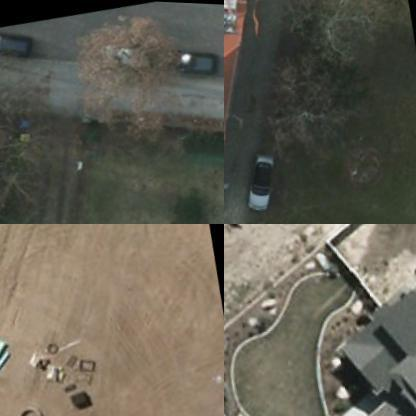car: (156, 35, 220, 84), (237, 150, 284, 213), (93, 36, 157, 80), (0, 24, 35, 73)
